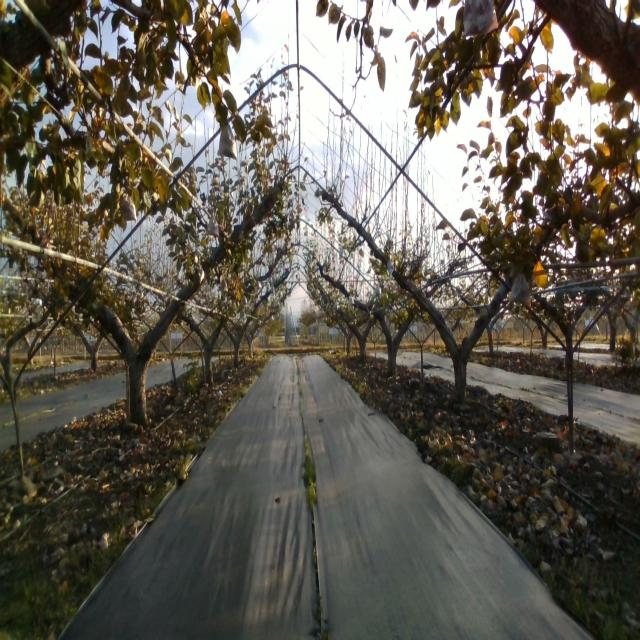pearbags: (461, 0, 499, 38), (508, 272, 531, 308), (218, 123, 236, 160), (119, 193, 138, 221), (207, 212, 219, 238)
